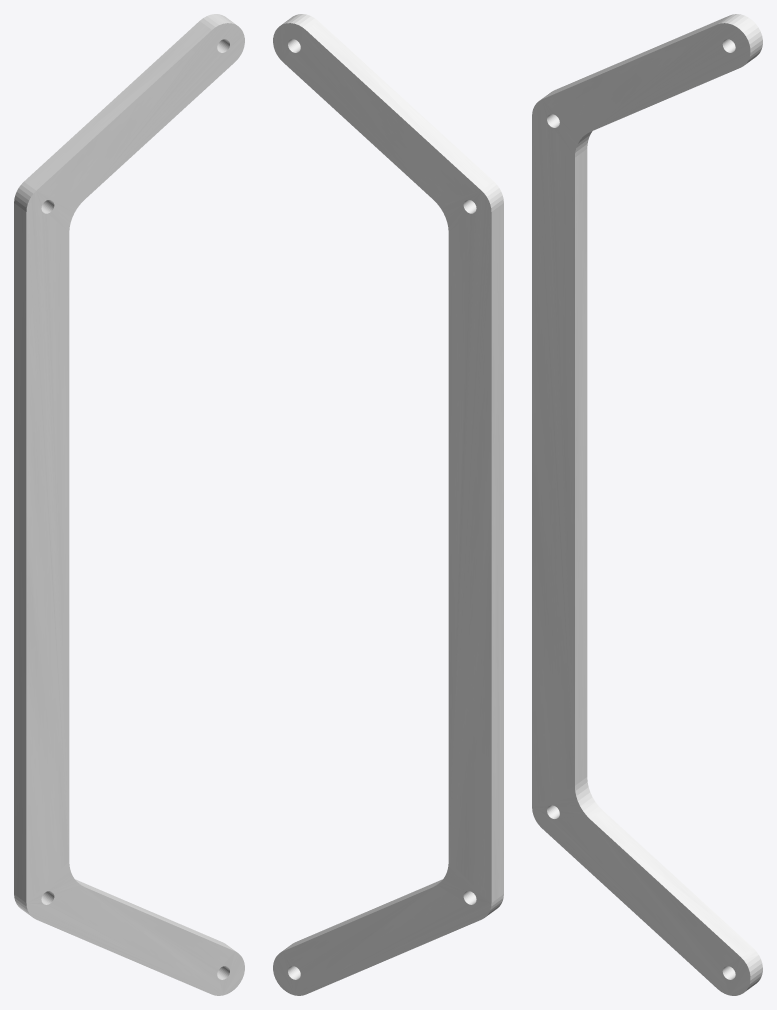
Rendered from xtend_plate.dae.
The picture shows the model from 3 angles, left to right: view 1: azimuth 30°, elevation 25°; view 2: azimuth 150°, elevation 25°; view 3: azimuth 330°, elevation 25°; orthographic projection.
Parts seen in each view (by area): view 1: node; view 2: node; view 3: node.
Boxes of the visible parts, box(x1,y1,x2,y2) form: node: box(14, 14, 244, 995); node: box(273, 14, 503, 995); node: box(532, 14, 762, 995).
Bounding box in the file's own units: 64.83 × 276 × 6.4.
Materials: 1 (1 with a texture image).
